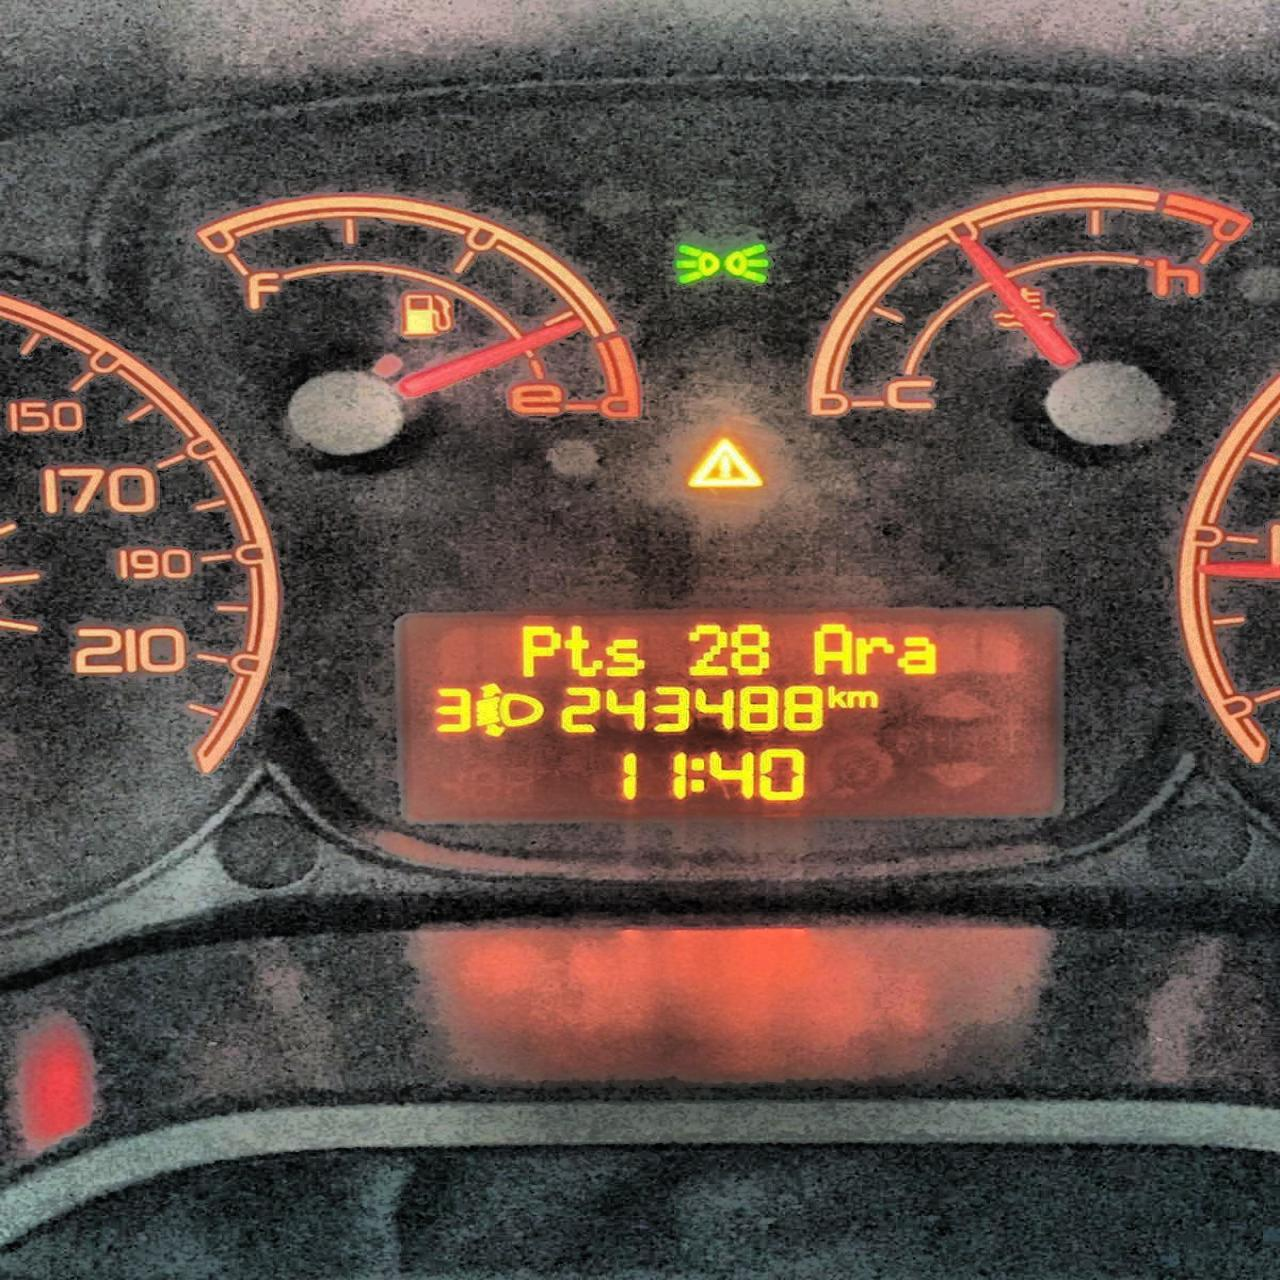0: (760, 747, 806, 804)
1: (619, 749, 642, 803), (669, 748, 688, 803)
2: (561, 681, 602, 738), (689, 621, 730, 676)
3: (649, 681, 690, 734), (433, 685, 475, 735)
4: (707, 749, 754, 799), (604, 686, 648, 735), (693, 682, 735, 731)
8: (730, 622, 770, 676), (737, 682, 778, 733), (782, 683, 822, 733)
X: (810, 621, 856, 676), (519, 621, 565, 675), (561, 622, 604, 676), (607, 636, 646, 680), (855, 633, 893, 674), (899, 634, 937, 675), (846, 687, 878, 712), (689, 753, 707, 794), (825, 682, 844, 710)
odometer: (399, 608, 1067, 818)
